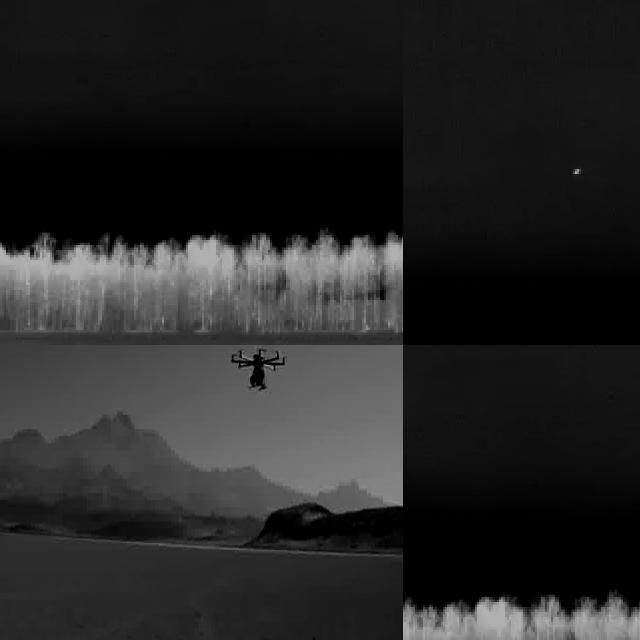1: (567, 160, 595, 188)
drone: (229, 345, 288, 394)
